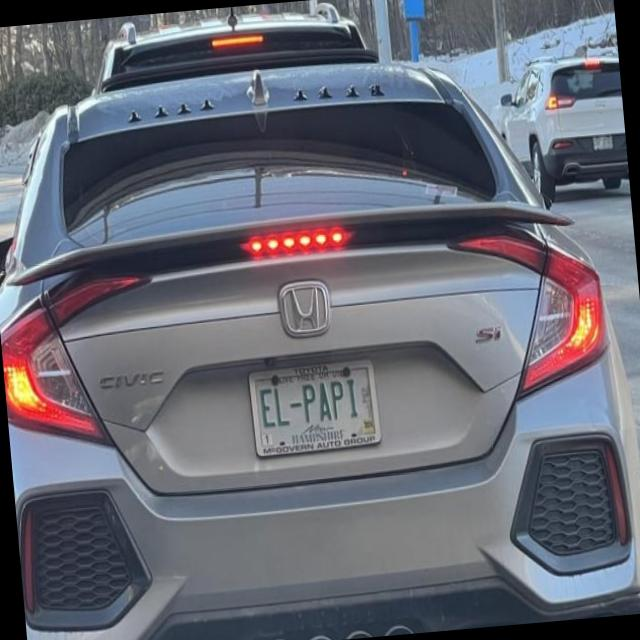LicensePlate: (247, 358, 381, 457)
